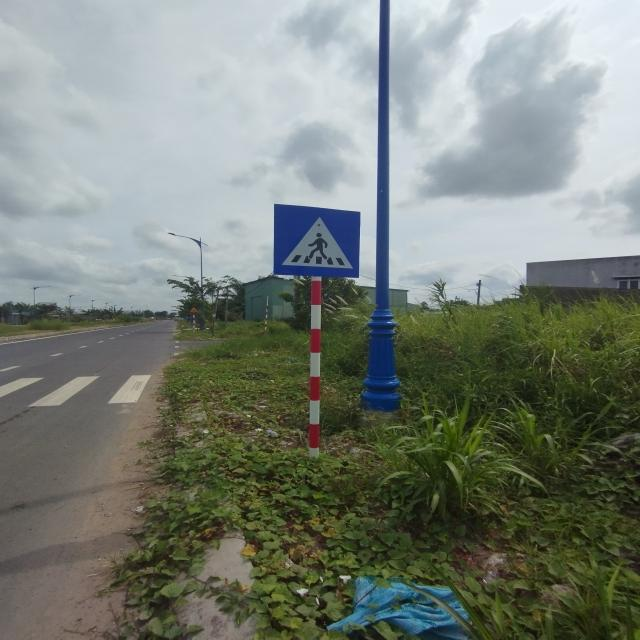Giao_Nhau_Duong_Uu_Tien: (274, 204, 360, 278)
